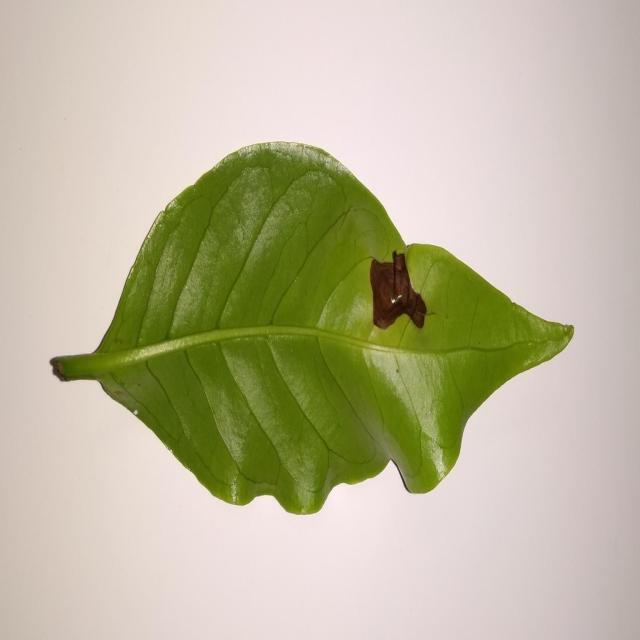phoma: (370, 251, 427, 329)
